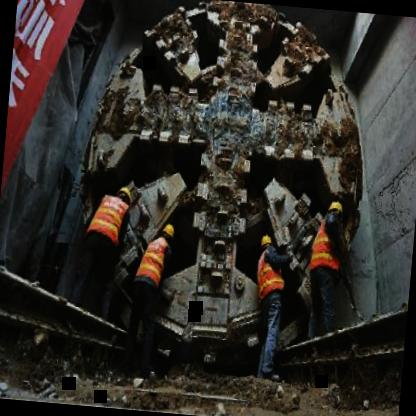helmet: (324, 196, 346, 226), (114, 184, 134, 210), (160, 220, 178, 245), (256, 231, 275, 254)
